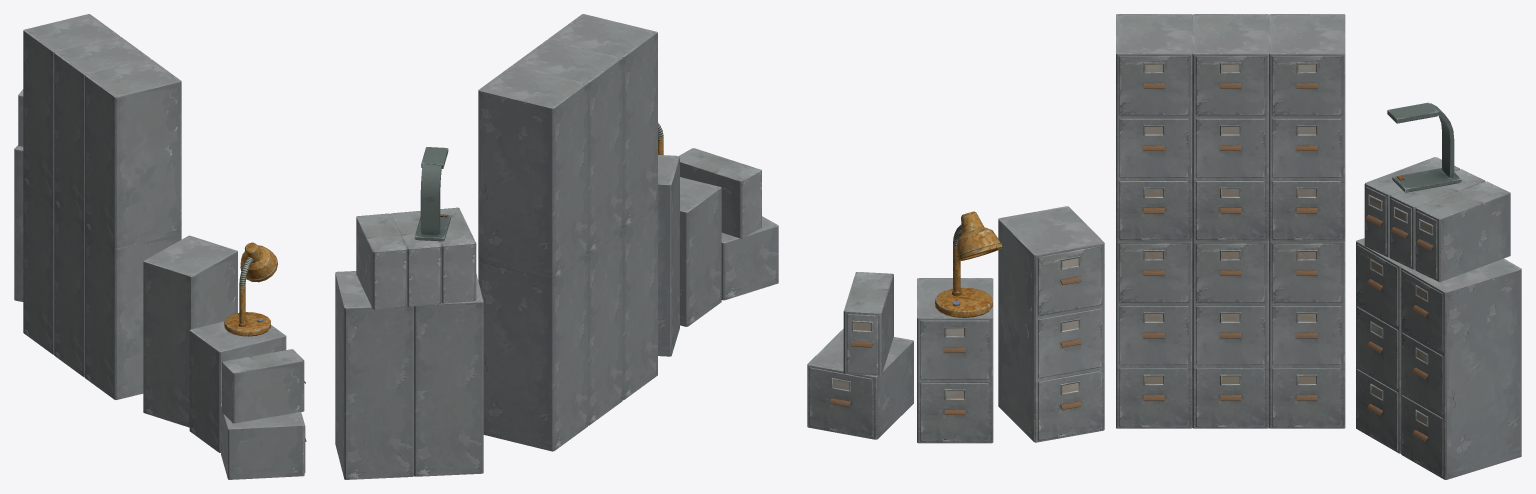
The model's file is office_box_and_lamp.glb.
The picture shows the model from 3 angles, left to right: view 1: azimuth 30°, elevation 25°; view 2: azimuth 150°, elevation 25°; view 3: azimuth 270°, elevation 25°; orthographic projection. The views are drawn at different scales.
Visible parts, largest first — view 1: SMDImport003, SMDImport; view 2: SMDImport003, SMDImport001; view 3: SMDImport003, SMDImport, SMDImport001.
Boxes of the visible parts, x1=… form: SMDImport003: x1=14, y1=14, x2=306, y2=479; SMDImport: x1=224, y1=242, x2=277, y2=336; SMDImport003: x1=335, y1=14, x2=778, y2=479; SMDImport001: x1=414, y1=147, x2=451, y2=241; SMDImport003: x1=807, y1=14, x2=1521, y2=479; SMDImport: x1=935, y1=211, x2=1002, y2=317; SMDImport001: x1=1387, y1=102, x2=1461, y2=192.
Bounding box in the file's own units: 56.67 × 108 × 187.
Materials: 4 (4 with a texture image).
